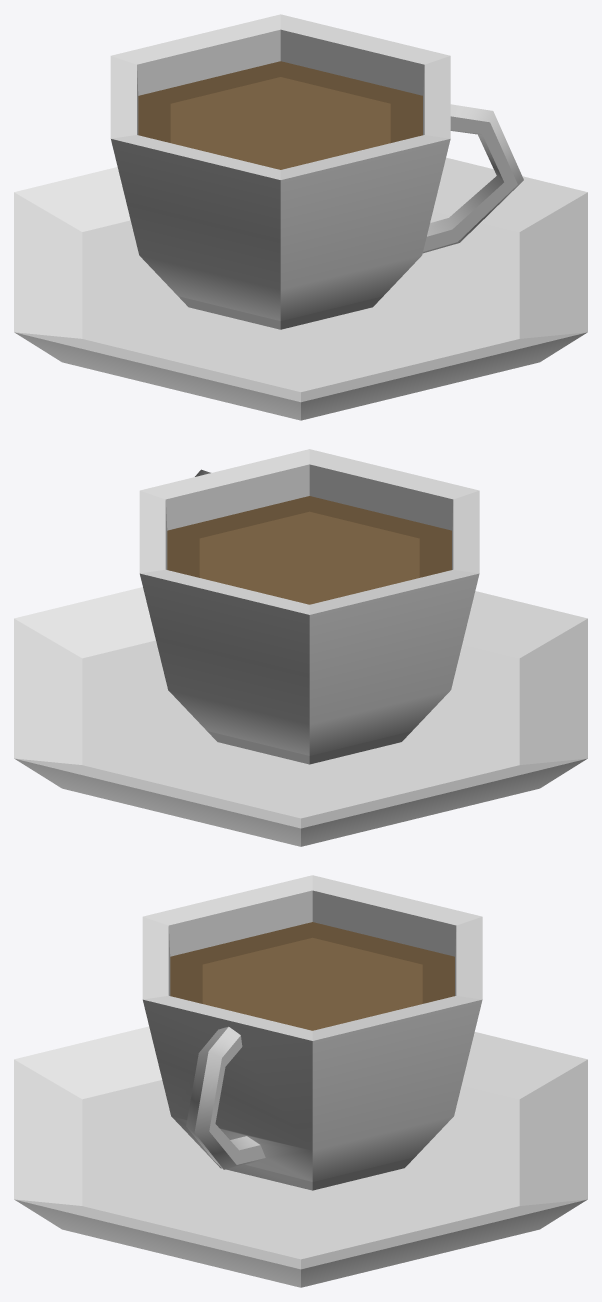
File: coffee_plate.fbx
3 views of the same model, one above another, from view 1: azimuth 30°, elevation 25°; view 2: azimuth 150°, elevation 25°; view 3: azimuth 270°, elevation 25° (orthographic).
Visible parts, largest first — view 1: plate8; view 2: plate8; view 3: plate8.
Part boxes in pixels (x1,y1,x2,y2): plate8: (14,14,587,420); plate8: (14,449,587,846); plate8: (14,875,587,1287).
Bounding box in the file's own units: 0.6148 × 0.2419 × 0.5324.
